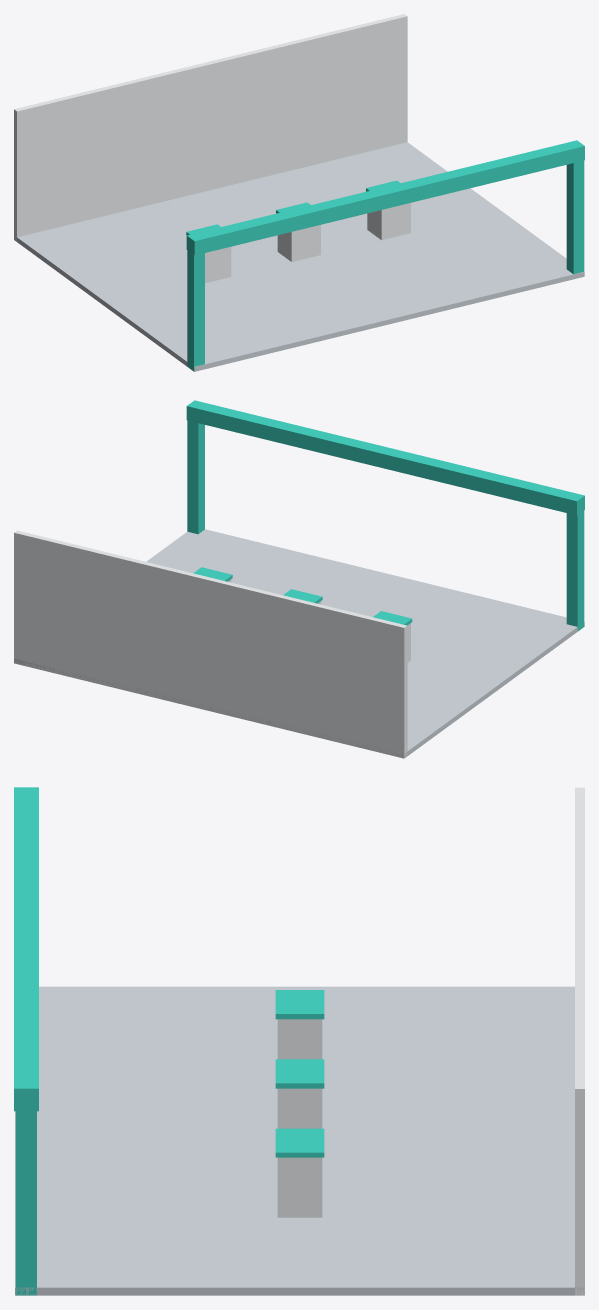
The picture shows the model from 3 angles, top to bottom: view 1: azimuth 30°, elevation 25°; view 2: azimuth 150°, elevation 25°; view 3: azimuth 270°, elevation 25°; orthographic projection. The views are drawn at different scales.
Visible parts, largest first — view 1: Exhibition Booth Concept; view 2: Exhibition Booth Concept; view 3: Exhibition Booth Concept.
Part boxes in pixels (bbox=[...]): Exhibition Booth Concept: bbox=[14, 14, 584, 371]; Exhibition Booth Concept: bbox=[14, 400, 584, 758]; Exhibition Booth Concept: bbox=[14, 787, 584, 1295].
Size of the model in its own units: 10 by 3.2 by 8.01.
